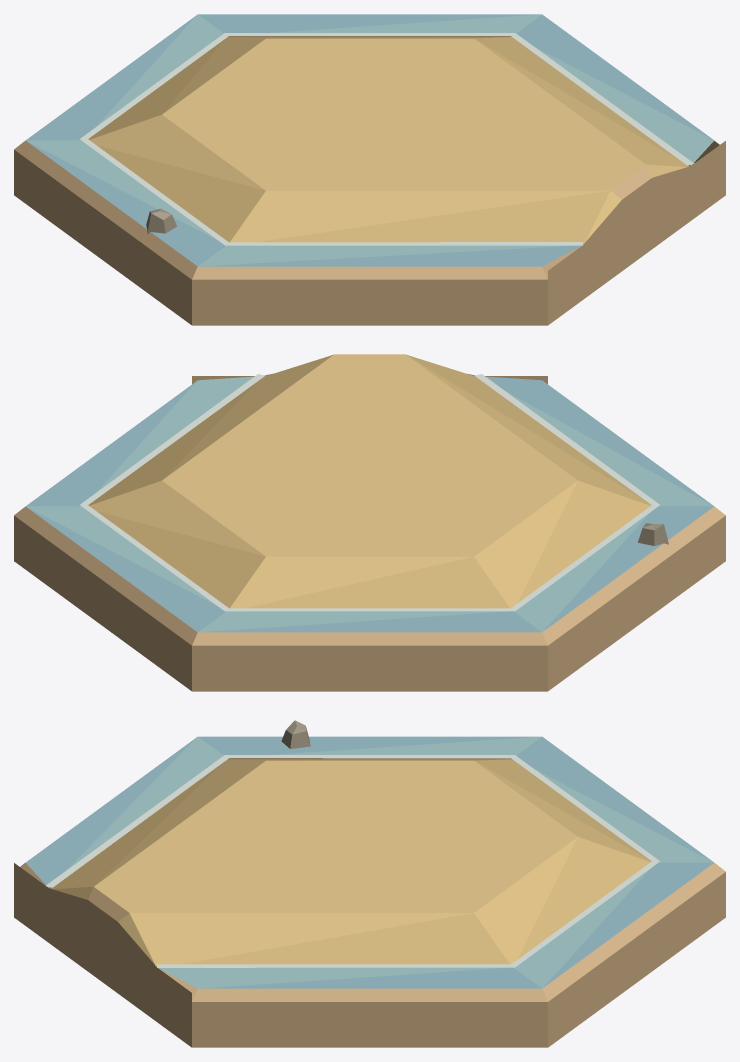
Rendered from coast_spit_dry.fbx.
3 views of the same model, one above another, from view 1: azimuth 30°, elevation 25°; view 2: azimuth 150°, elevation 25°; view 3: azimuth 270°, elevation 25° (orthographic).
Parts seen in each view (by area): view 1: coast_spit_dry; view 2: coast_spit_dry; view 3: coast_spit_dry.
Boxes of the visible parts, <box> form: coast_spit_dry: <box>14,14,725,325</box>; coast_spit_dry: <box>14,354,725,691</box>; coast_spit_dry: <box>14,720,725,1047</box>.
Bounding box in the file's own units: 1.73 × 0.25 × 2.
